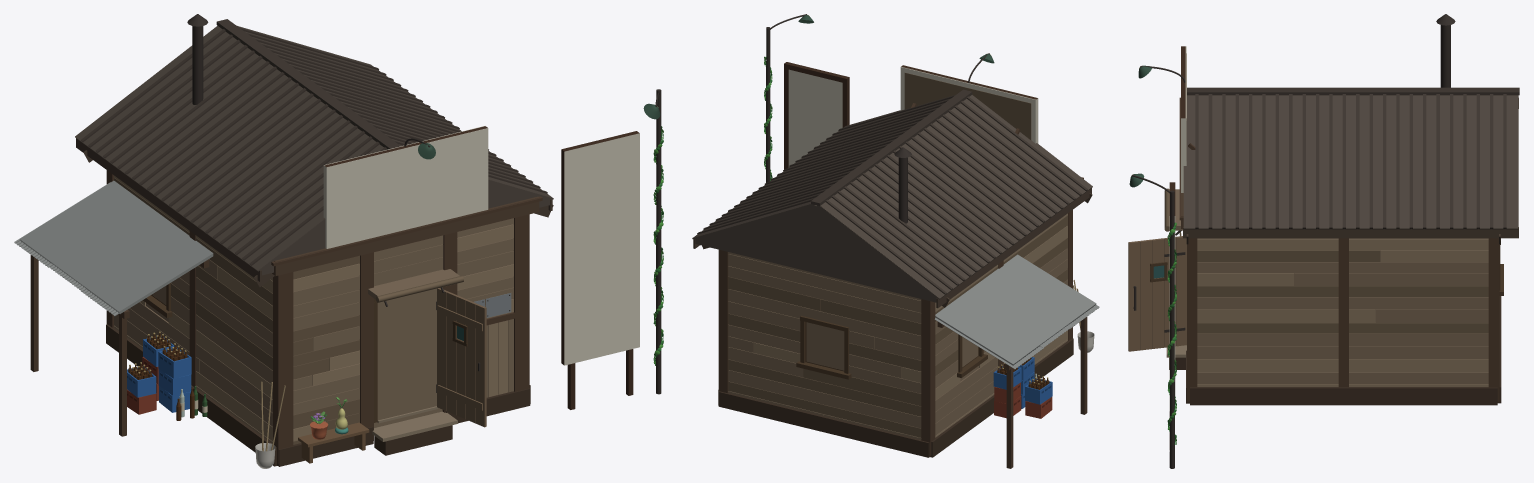
File: restaurant.glb
3 renders of one model, left to right at view 1: azimuth 30°, elevation 25°; view 2: azimuth 150°, elevation 25°; view 3: azimuth 270°, elevation 25°, orthographic. The views are drawn at different scales.
Visible parts, largest first — view 1: restaurant, restaurant_far; view 2: restaurant, restaurant_far; view 3: restaurant, restaurant_far.
Boxes of the visible parts, x1,y1,x2,y2 form: restaurant: (14, 14, 663, 468); restaurant_far: (20, 126, 639, 427); restaurant: (692, 14, 1099, 468); restaurant_far: (693, 67, 1096, 381); restaurant: (1128, 14, 1519, 468); restaurant_far: (1169, 46, 1518, 410).
Size of the model in its own units: 8.81 by 6.13 by 6.9.
